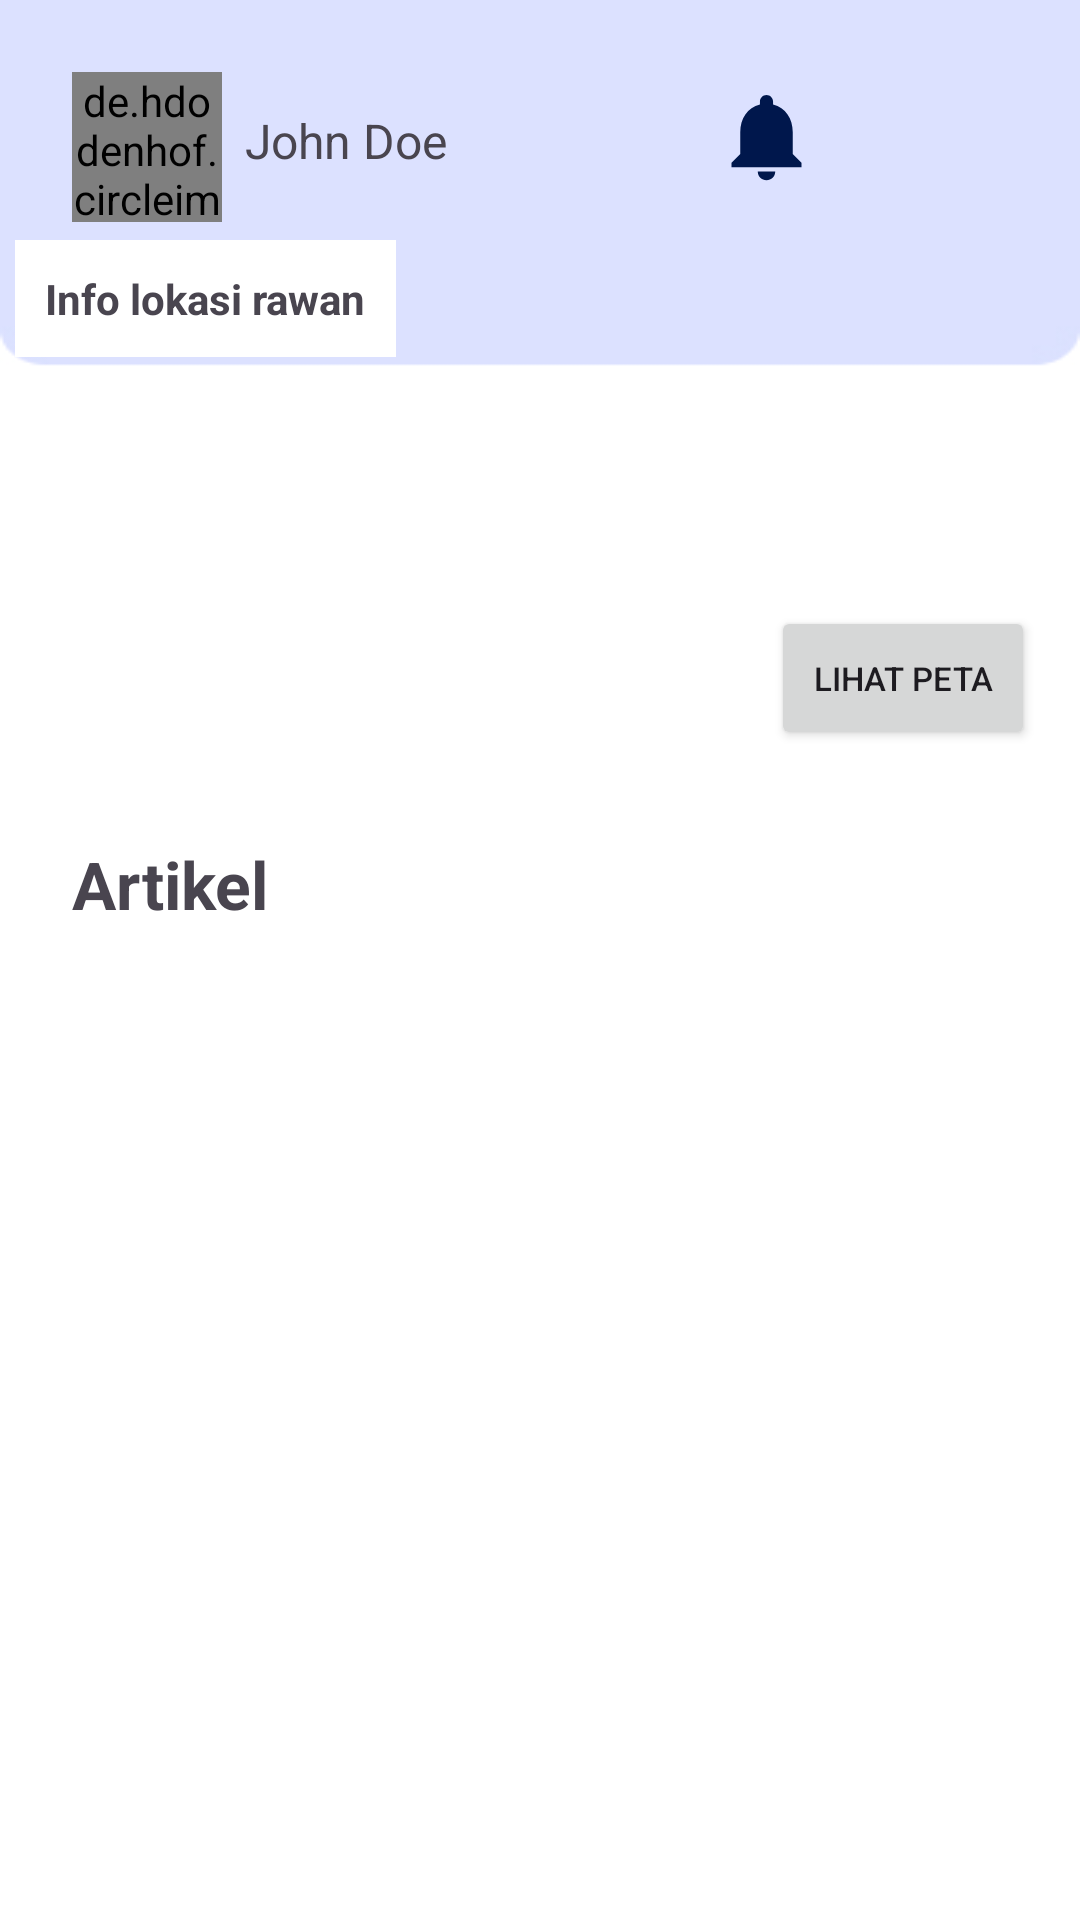

Screen size 1080 × 1920. Icon name, then its center in pixels as (x=x, y=y):
notifications: (x=766, y=138)
